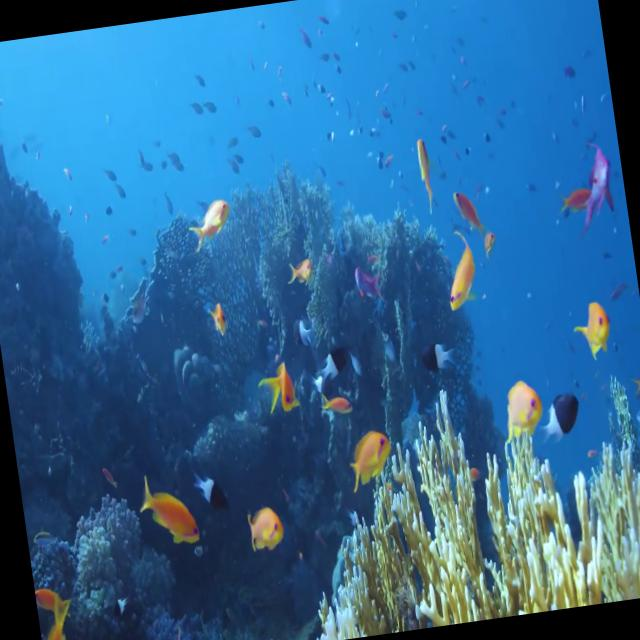fish: (560, 146, 622, 239), (132, 476, 204, 556), (437, 226, 488, 325), (498, 374, 550, 448), (572, 292, 618, 374), (537, 383, 591, 452), (311, 332, 364, 398), (346, 426, 399, 490), (190, 193, 238, 252), (412, 128, 438, 220), (246, 506, 288, 556), (264, 366, 304, 416)
